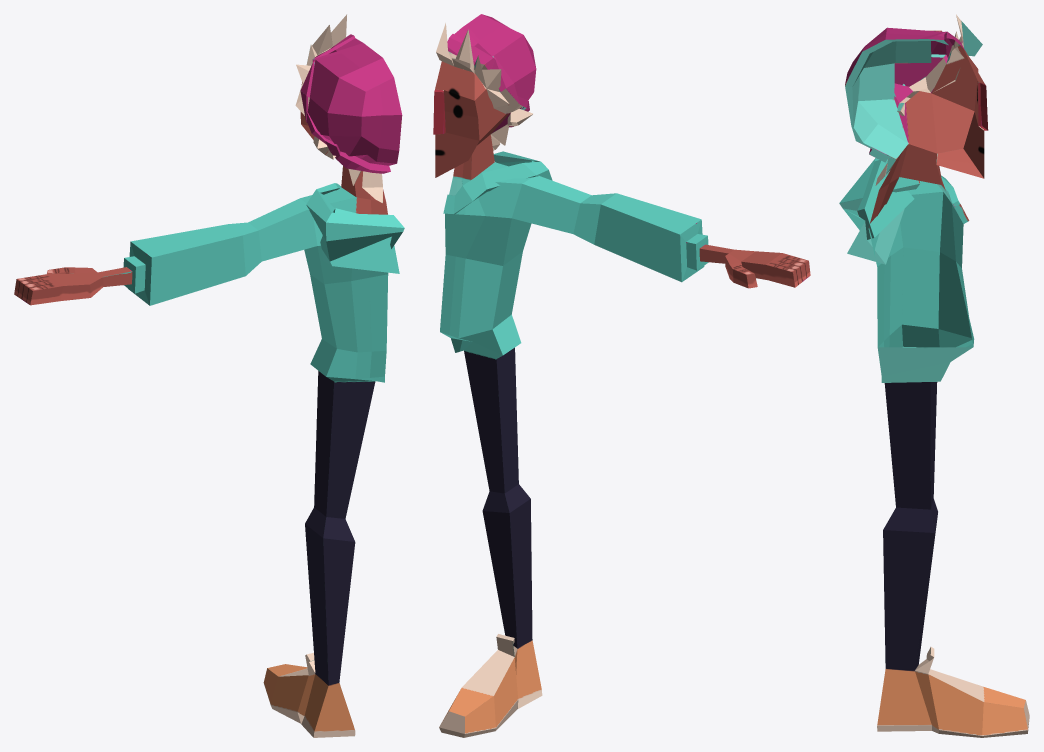
Rendered from Nyx(MainPlayer).glb.
3 views of the same model, side by side, from view 1: azimuth 30°, elevation 25°; view 2: azimuth 150°, elevation 25°; view 3: azimuth 270°, elevation 25° (orthographic). The views are drawn at different scales.
Parts seen in each view (by area): view 1: Cube; view 2: Cube; view 3: Cube.
Part boxes in pixels (<box>): Cube: <box>14,14,404,737</box>; Cube: <box>433,14,810,737</box>; Cube: <box>839,14,1029,737</box>.
Size of the model in its own units: 5.72 by 10.89 by 2.57.
1 material, 1 textured.
